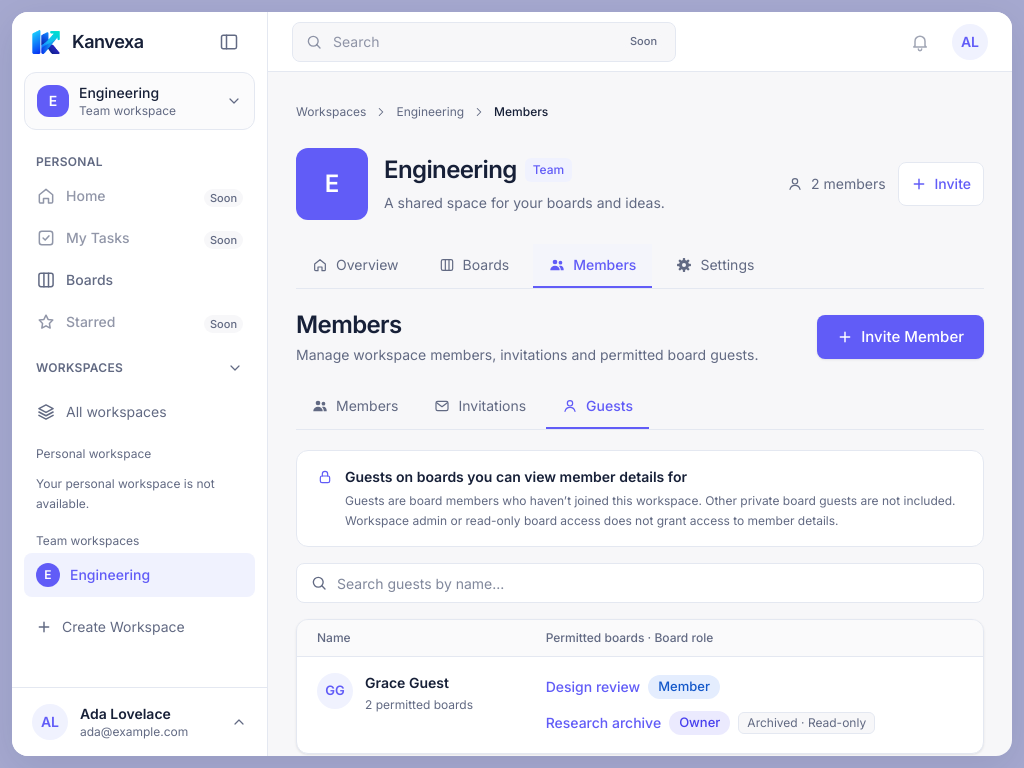
Test case: Guest search, paging and states › searches the server, resets pagination and hides prior results during debounce
Type "missing" into the search field labelled "Search guests" at (640, 583), box 296,563 -> 984,603
(page scrolled)
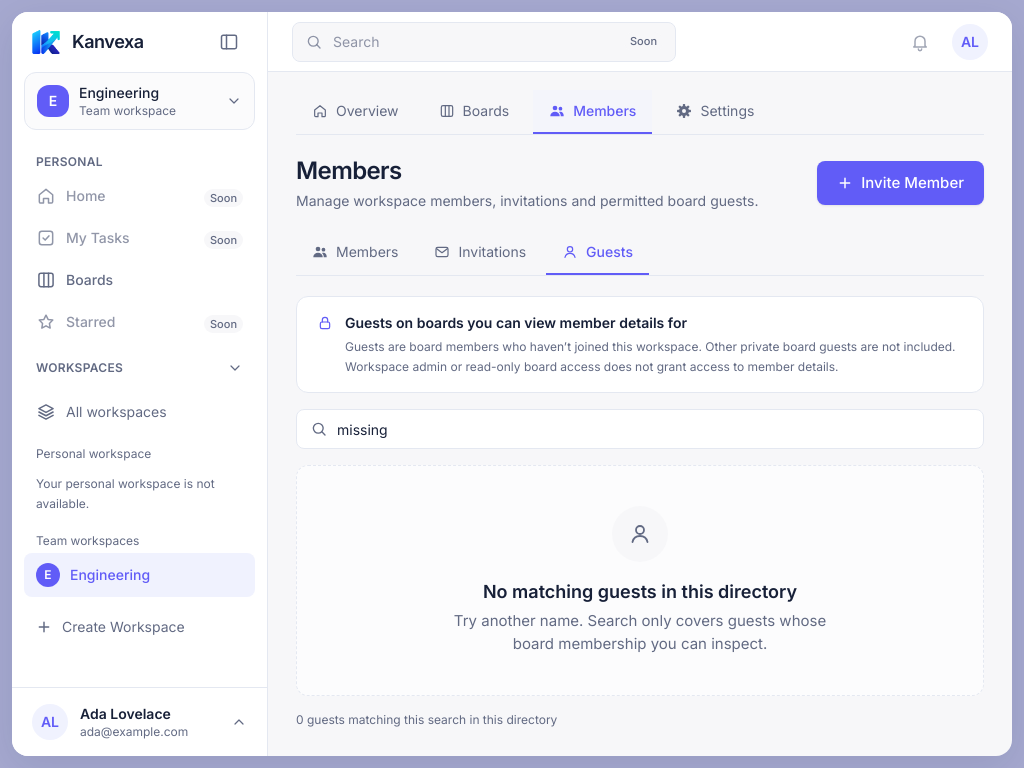
Expected: the heading "Grace Guest" is gone
Expected: the heading "No matching guests in this directory" is shown, 483,578 -> 797,606
Expected: the text "0 guests matching this search in this directory" is shown, 296,712 -> 557,727
